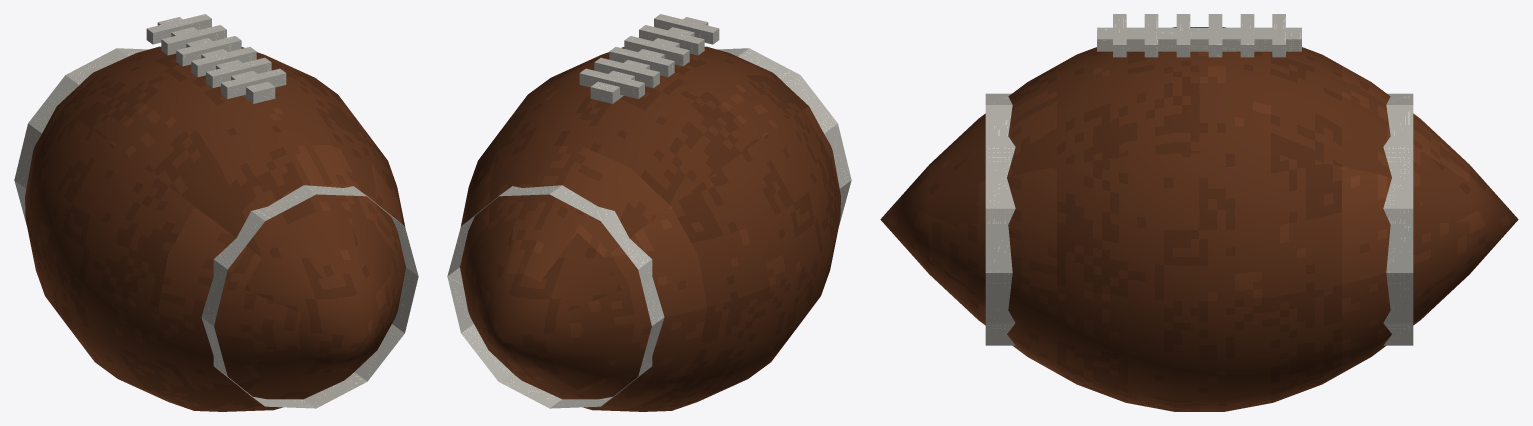
File: football.glb
The picture shows the model from 3 angles, left to right: view 1: azimuth 30°, elevation 25°; view 2: azimuth 150°, elevation 25°; view 3: azimuth 270°, elevation 25°; orthographic projection. The views are drawn at different scales.
Visible parts, largest first — view 1: football; view 2: football; view 3: football.
Part boxes in pixels (x1,y1,x2,y2): football: (14,14,418,411); football: (447,14,851,411); football: (880,14,1518,411).
Size of the model in its own units: 0.169 by 0.1765 by 0.28.
2 materials, 2 textured.
